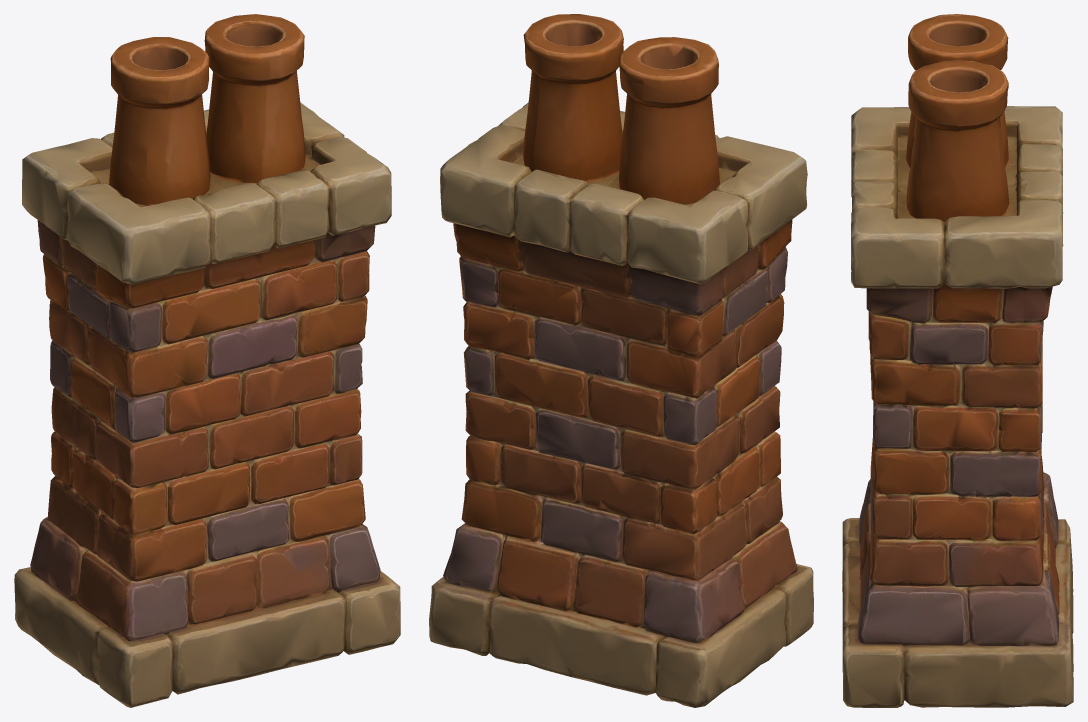
File: mod_chimney_b.glb
The picture shows the model from 3 angles, left to right: view 1: azimuth 30°, elevation 25°; view 2: azimuth 150°, elevation 25°; view 3: azimuth 270°, elevation 25°; orthographic projection.
Parts seen in each view (by area): view 1: tripo_node_8b5e2bf8-5197-4361-8f5f-975cccebc332; view 2: tripo_node_8b5e2bf8-5197-4361-8f5f-975cccebc332; view 3: tripo_node_8b5e2bf8-5197-4361-8f5f-975cccebc332.
Boxes of the visible parts, x1,y1,x2,y2 form: tripo_node_8b5e2bf8-5197-4361-8f5f-975cccebc332: [14, 14, 400, 707]; tripo_node_8b5e2bf8-5197-4361-8f5f-975cccebc332: [429, 14, 813, 707]; tripo_node_8b5e2bf8-5197-4361-8f5f-975cccebc332: [842, 14, 1073, 707].
Size of the model in its own units: 0.4796 by 0.9795 by 0.3499.
1 material, 1 textured.
